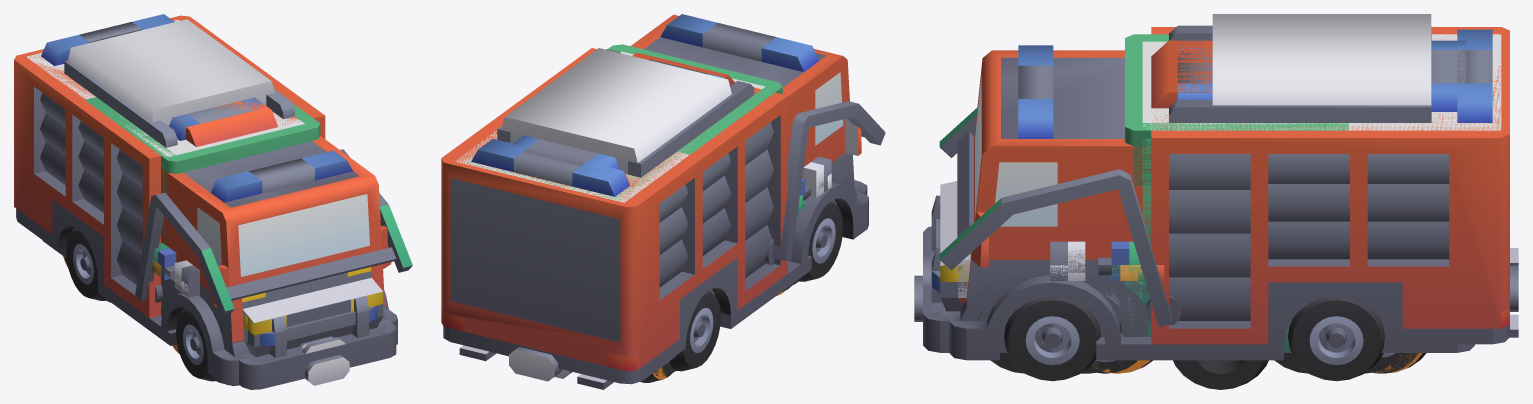
The model's file is lib-vehicles.glb.
The picture shows the model from 3 angles, left to right: view 1: azimuth 30°, elevation 25°; view 2: azimuth 150°, elevation 25°; view 3: azimuth 270°, elevation 25°; orthographic projection. The views are drawn at different scales.
Parts seen in each view (by area): view 1: body (×5), arm, grill, wheel-front-right, wheel-back-right; view 2: body (×4), arm, wheel-back-right, wheel-front-right; view 3: body (×10), arm, wheel-back-left, wheel-front-left, debris-tire, grill.
Part boxes in pixels (box(x1,y1,x2,y2)): body (×5): box(14, 14, 397, 389); arm: box(135, 149, 412, 315); grill: box(246, 296, 386, 361); wheel-front-right: box(176, 309, 216, 381); wheel-back-right: box(66, 229, 106, 300); body (×4): box(441, 14, 868, 389); arm: box(764, 101, 885, 265); wheel-back-right: box(669, 290, 720, 371); wheel-front-right: box(798, 201, 843, 281); body (×10): box(914, 14, 1518, 360); arm: box(939, 108, 1181, 326); wheel-back-left: box(1288, 296, 1384, 381); wheel-front-left: box(1004, 296, 1101, 381); debris-tire: box(1173, 360, 1268, 389); grill: box(923, 195, 949, 317).
Bounding box in the file's own units: 1.6 × 2.1 × 3.45.
1 material, 1 textured.
